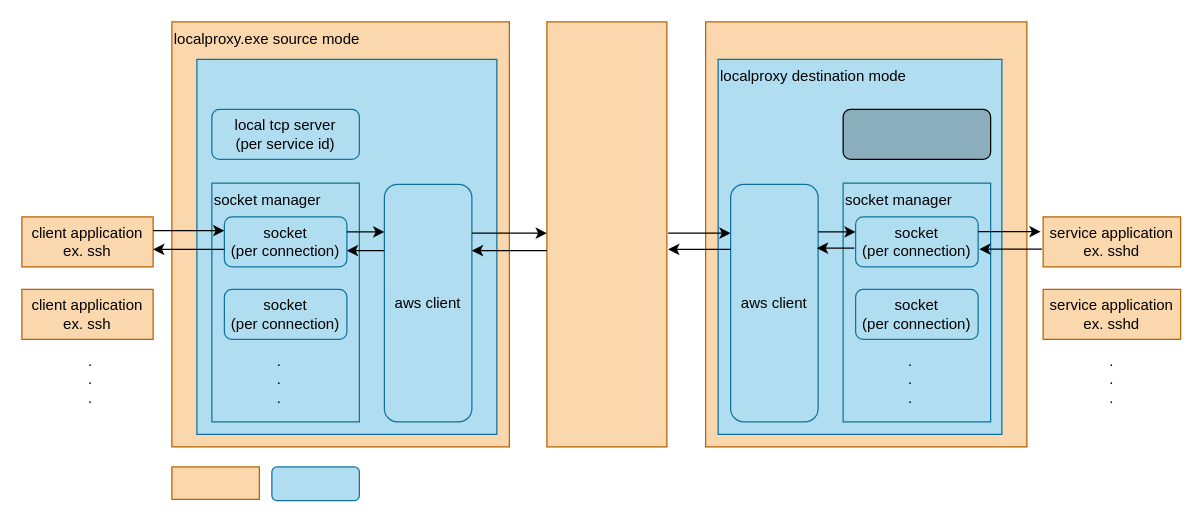
The diagram is 1203 pixels wide and 523 high, and some of its shapes have lost their labels. The shapes that lost their labels are listed below. From the top down, each one's box as (x1, y1, x2, y2) in pixels, then its label:
(842, 108, 991, 159): local tcp server (disable)
(196, 58, 497, 434): localproxy source mode
(546, 21, 667, 447): AWS secure tunneling service
(704, 21, 1027, 447): localproxy.exe destination mode
(171, 466, 259, 499): process
(271, 466, 359, 501): struct
